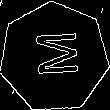M_W: (28, 33, 80, 82)
